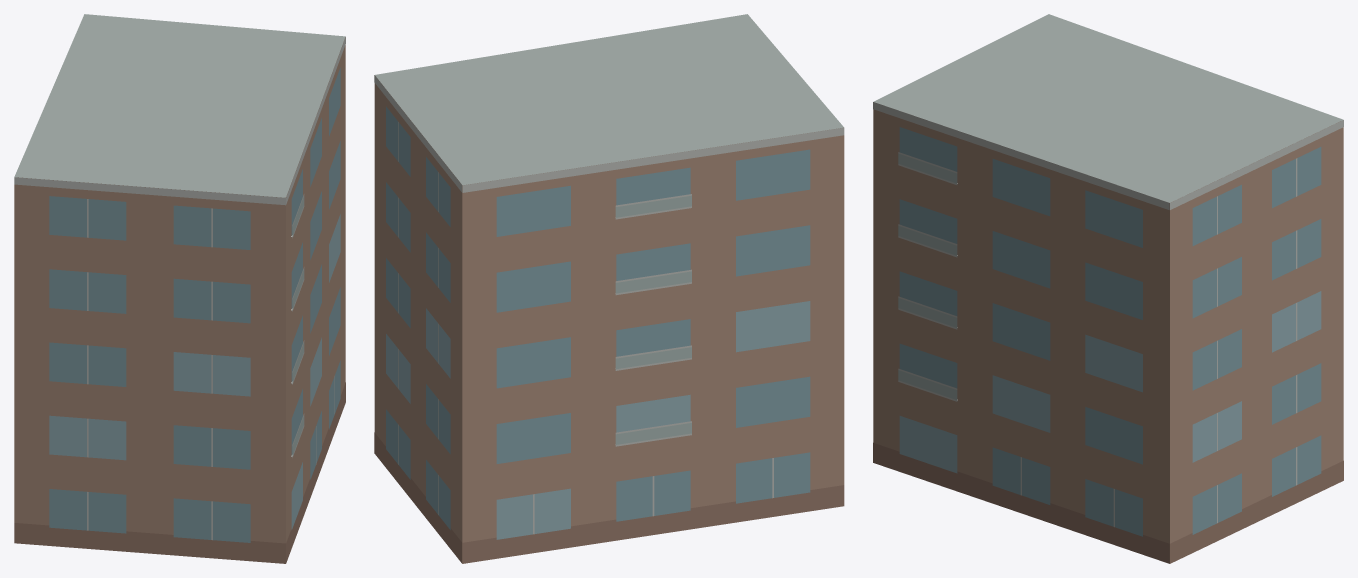
Rendered from survey-upis-32703134.glb.
3 views of the same model, side by side, from view 1: azimuth 30°, elevation 25°; view 2: azimuth 150°, elevation 25°; view 3: azimuth 270°, elevation 25° (orthographic). The views are drawn at different scales.
Parts seen in each view (by area): view 1: survey-upis-32703134.tmp; view 2: survey-upis-32703134.tmp; view 3: survey-upis-32703134.tmp.
Boxes of the visible parts, x1=… form: survey-upis-32703134.tmp: x1=14, y1=14, x2=345, y2=563; survey-upis-32703134.tmp: x1=374, y1=14, x2=844, y2=563; survey-upis-32703134.tmp: x1=873, y1=14, x2=1343, y2=563.
Bounding box in the file's own units: 13.48 × 12 × 14.19.
